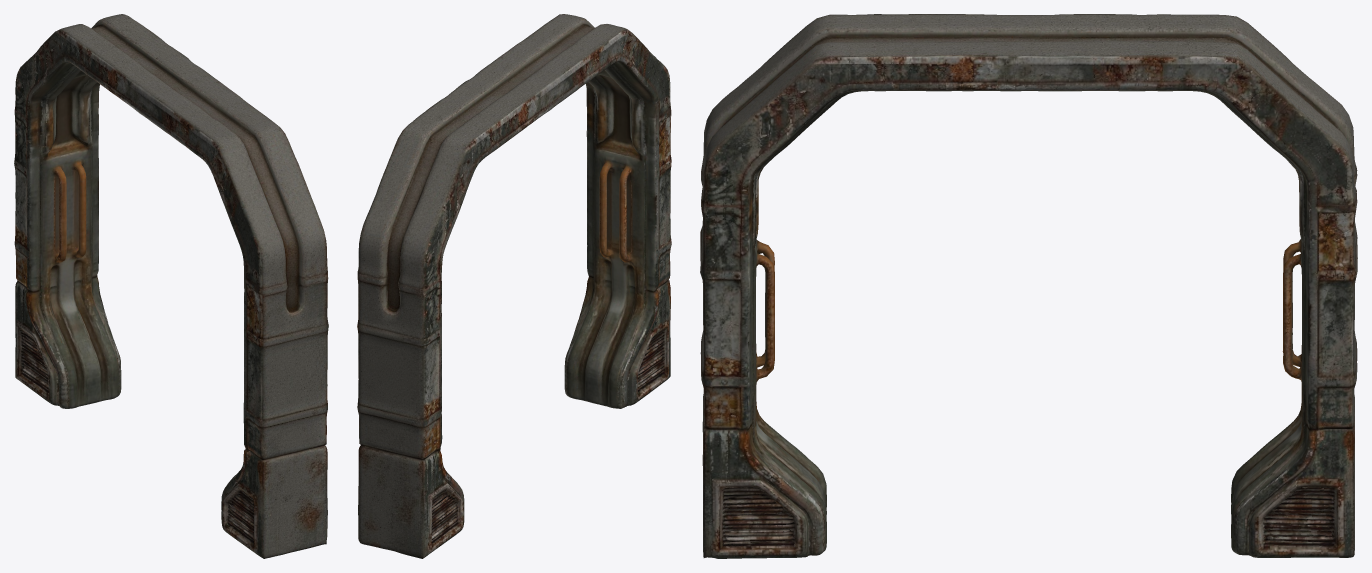
The model's file is industrial+arch+frame+3d+model (1).glb.
3 renders of one model, left to right at view 1: azimuth 30°, elevation 25°; view 2: azimuth 150°, elevation 25°; view 3: azimuth 270°, elevation 25°, orthographic. The views are drawn at different scales.
Parts seen in each view (by area): view 1: tripo_node_04878043-ac46-4ba4-b20f-e7d561ed3451; view 2: tripo_node_04878043-ac46-4ba4-b20f-e7d561ed3451; view 3: tripo_node_04878043-ac46-4ba4-b20f-e7d561ed3451.
Boxes of the visible parts, box(x1,y1,x2,y2) form: tripo_node_04878043-ac46-4ba4-b20f-e7d561ed3451: box(14, 14, 328, 558); tripo_node_04878043-ac46-4ba4-b20f-e7d561ed3451: box(357, 14, 671, 558); tripo_node_04878043-ac46-4ba4-b20f-e7d561ed3451: box(700, 14, 1357, 558).
Bounding box in the file's own units: 0.1615 × 0.829 × 0.9797.
1 material, 1 textured.
